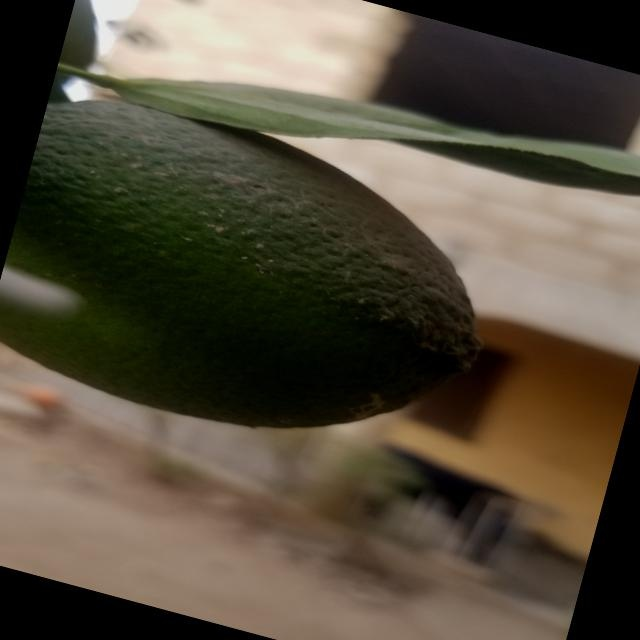agrume: (0, 71, 513, 481)
